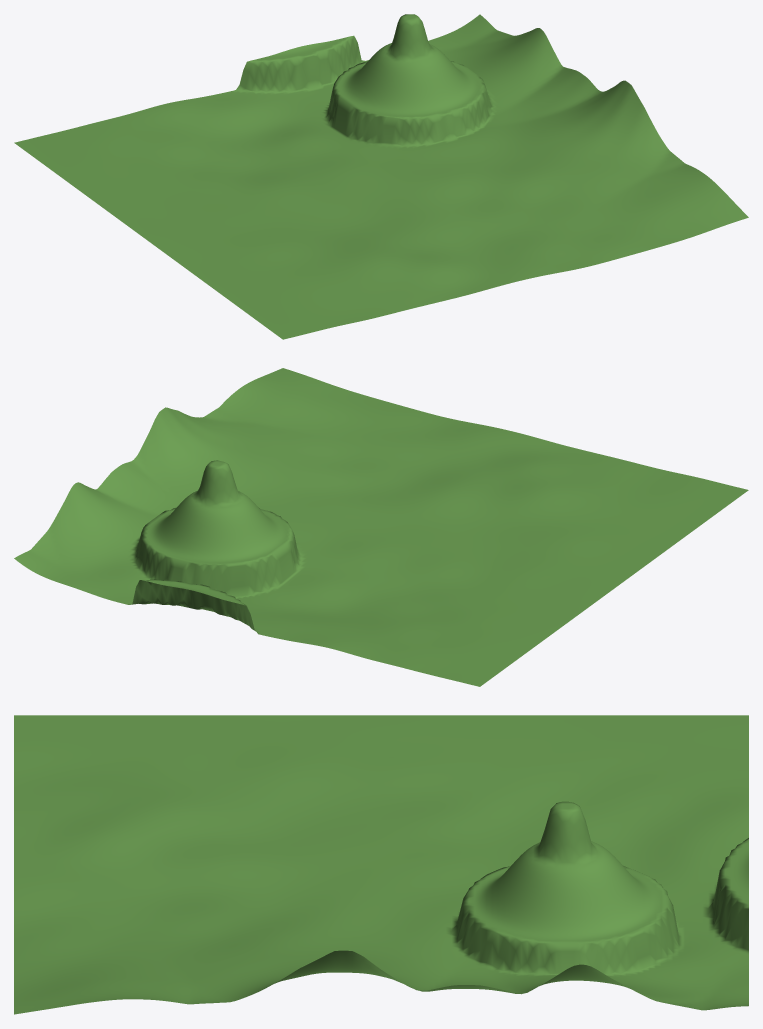
The model's file is SM_Terrain_00_04.fbx.
3 views of the same model, one above another, from view 1: azimuth 30°, elevation 25°; view 2: azimuth 150°, elevation 25°; view 3: azimuth 270°, elevation 25° (orthographic). The views are drawn at different scales.
Parts seen in each view (by area): view 1: SM_Terrain_00_04; view 2: SM_Terrain_00_04; view 3: SM_Terrain_00_04.
Boxes of the visible parts, x1=… form: SM_Terrain_00_04: x1=14, y1=14, x2=748, y2=339; SM_Terrain_00_04: x1=14, y1=368, x2=748, y2=686; SM_Terrain_00_04: x1=14, y1=715, x2=748, y2=1014.
Bounding box in the file's own units: 384 × 78.73 × 384.
